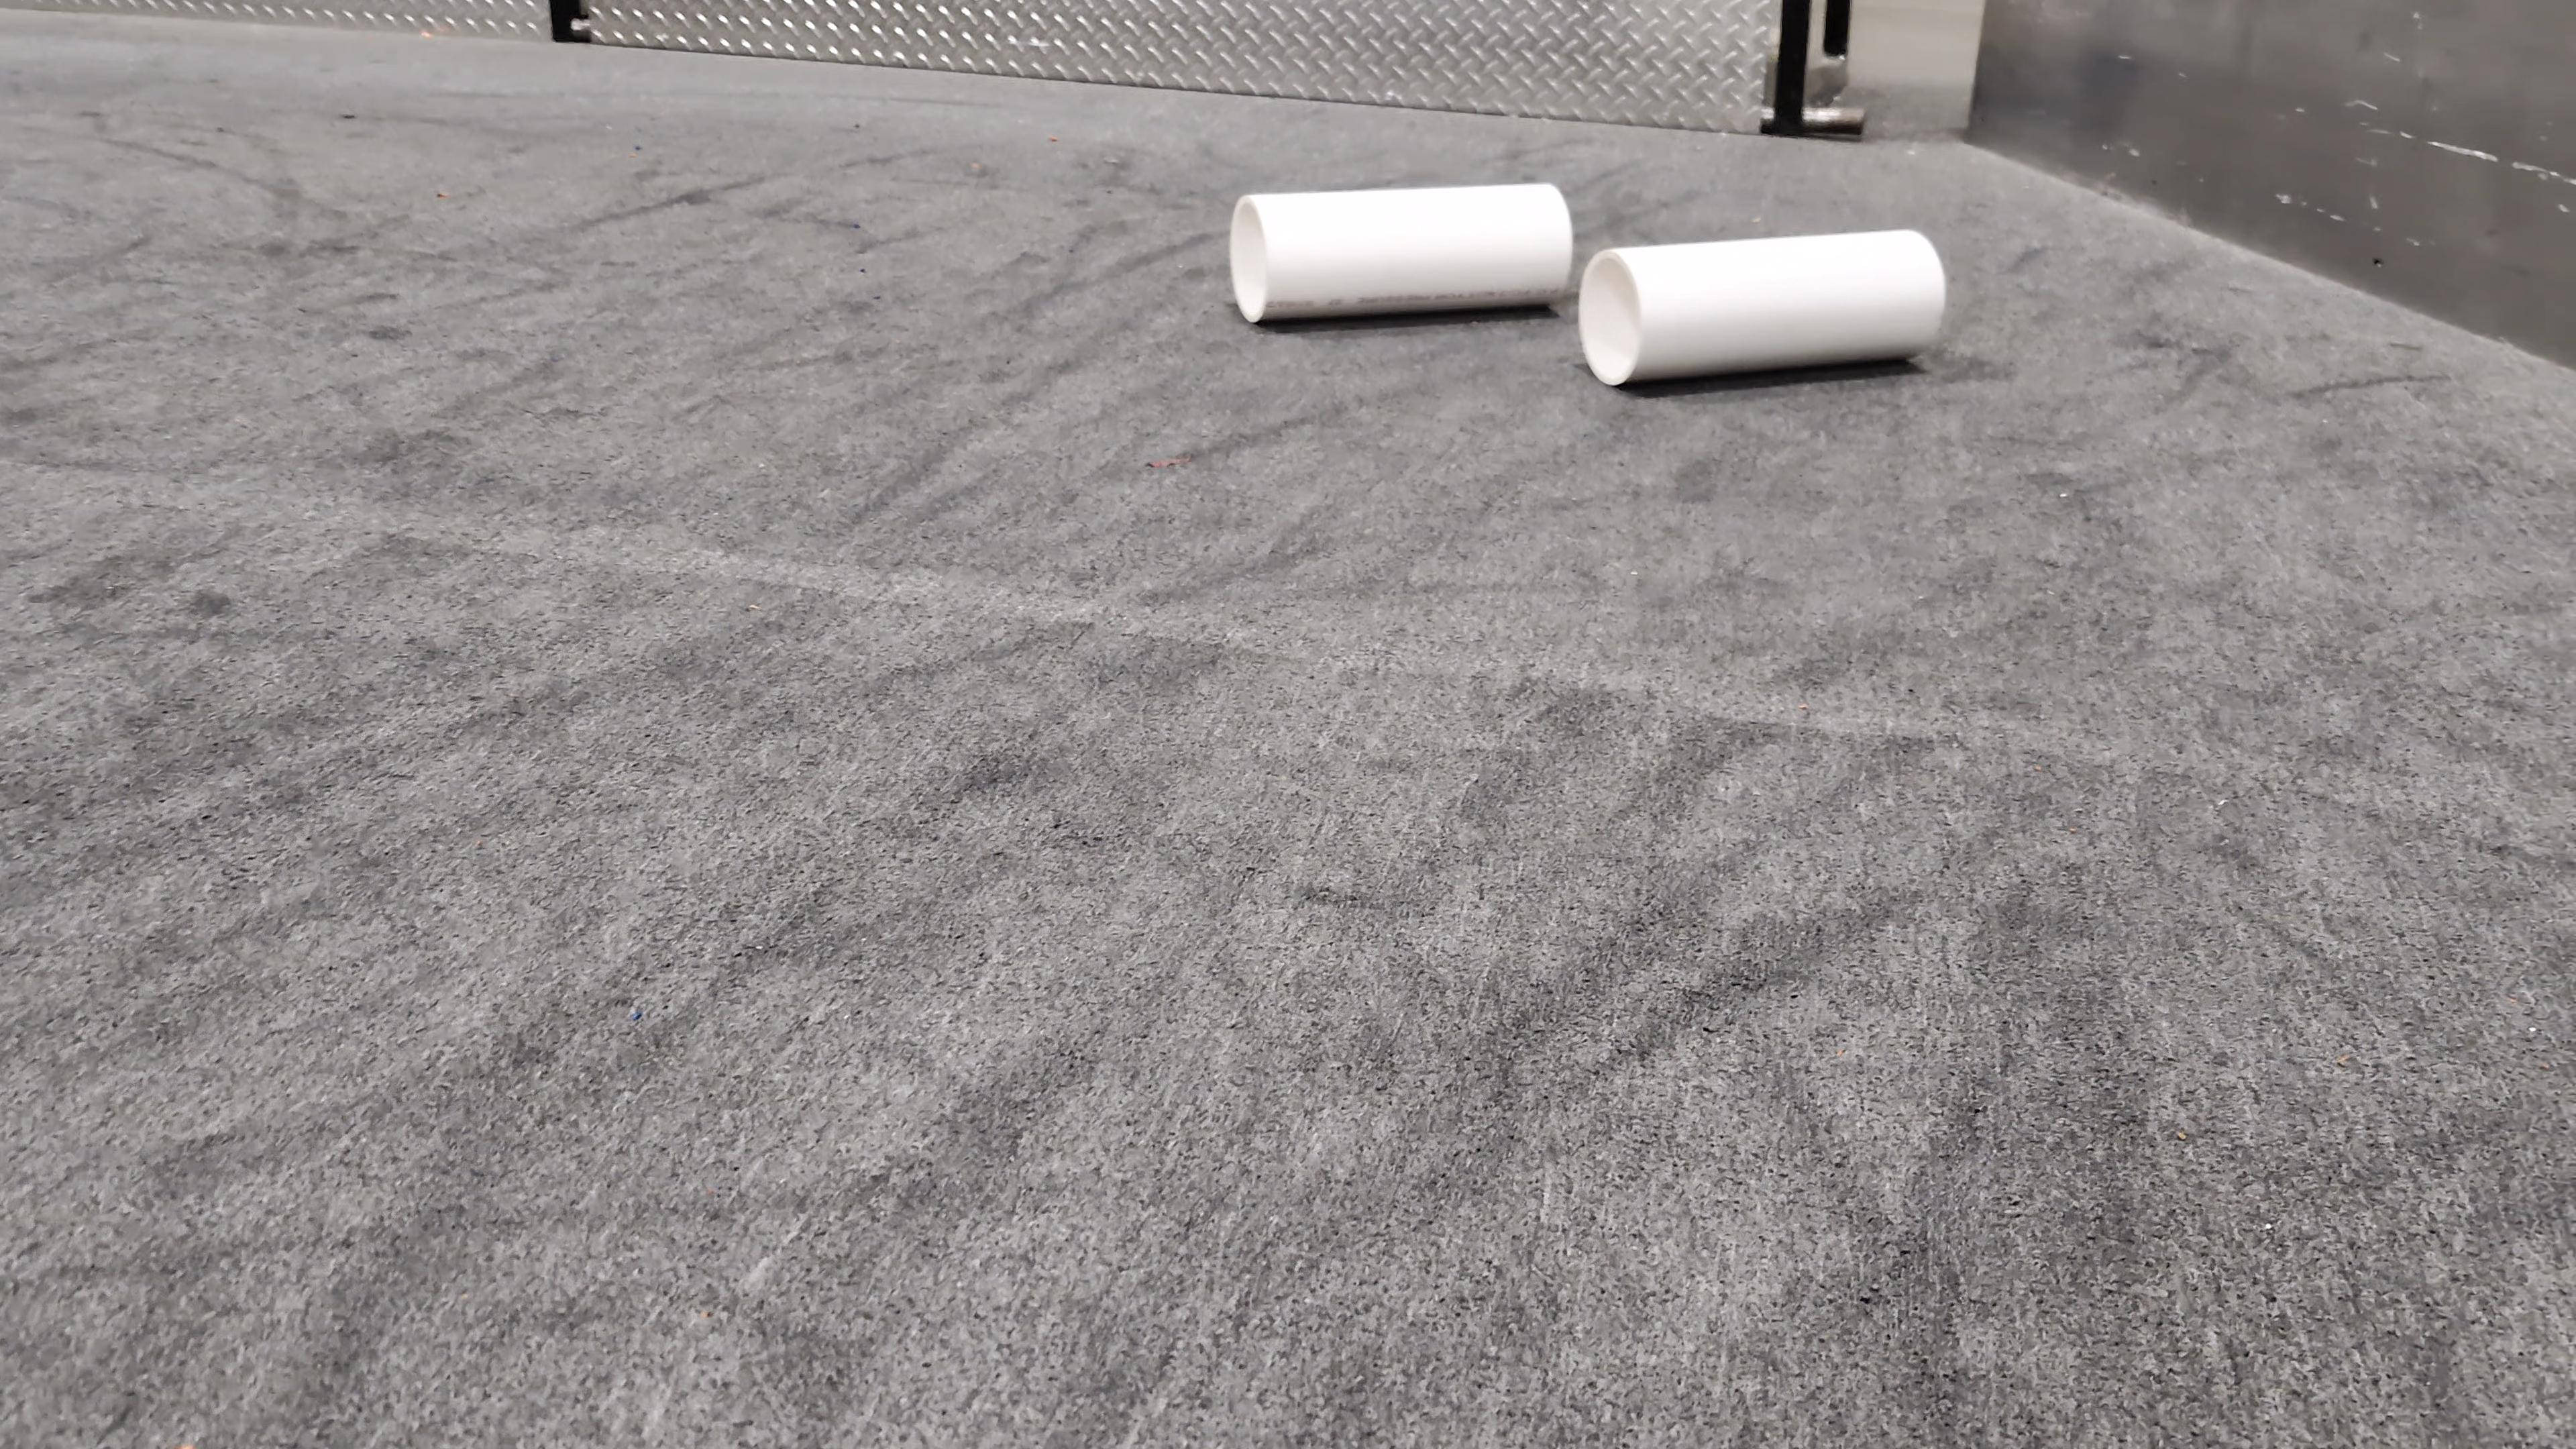coral: (1582, 232, 1946, 384), (1233, 182, 1573, 322)
